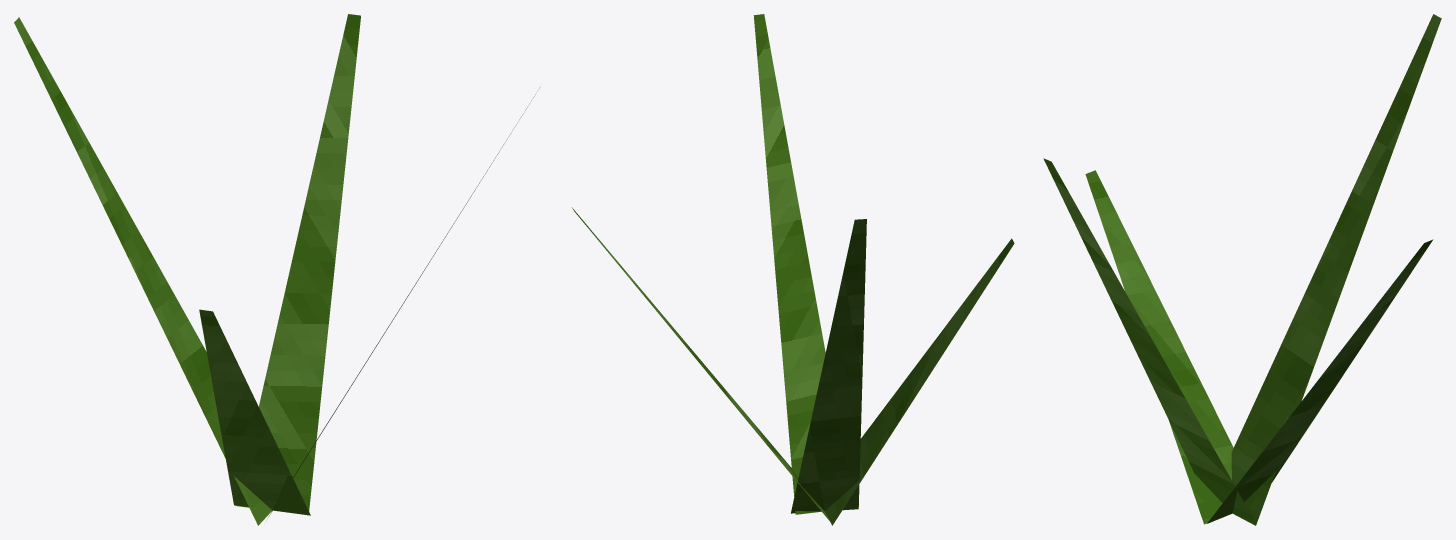
Rendered from plant_wolf02-lod2.glb.
The picture shows the model from 3 angles, left to right: view 1: azimuth 30°, elevation 25°; view 2: azimuth 150°, elevation 25°; view 3: azimuth 270°, elevation 25°; orthographic projection. The views are drawn at different scales.
Visible parts, largest first — view 1: TZ_ground_plant_Batch_00_LOD2; view 2: TZ_ground_plant_Batch_00_LOD2; view 3: TZ_ground_plant_Batch_00_LOD2.
Part boxes in pixels (box(x1,y1,x2,y2)): TZ_ground_plant_Batch_00_LOD2: box(14, 14, 539, 525); TZ_ground_plant_Batch_00_LOD2: box(572, 14, 1014, 525); TZ_ground_plant_Batch_00_LOD2: box(1043, 14, 1441, 525).
Size of the model in its own units: 0.6466 by 0.82 by 0.6828.
1 material, 1 textured.
